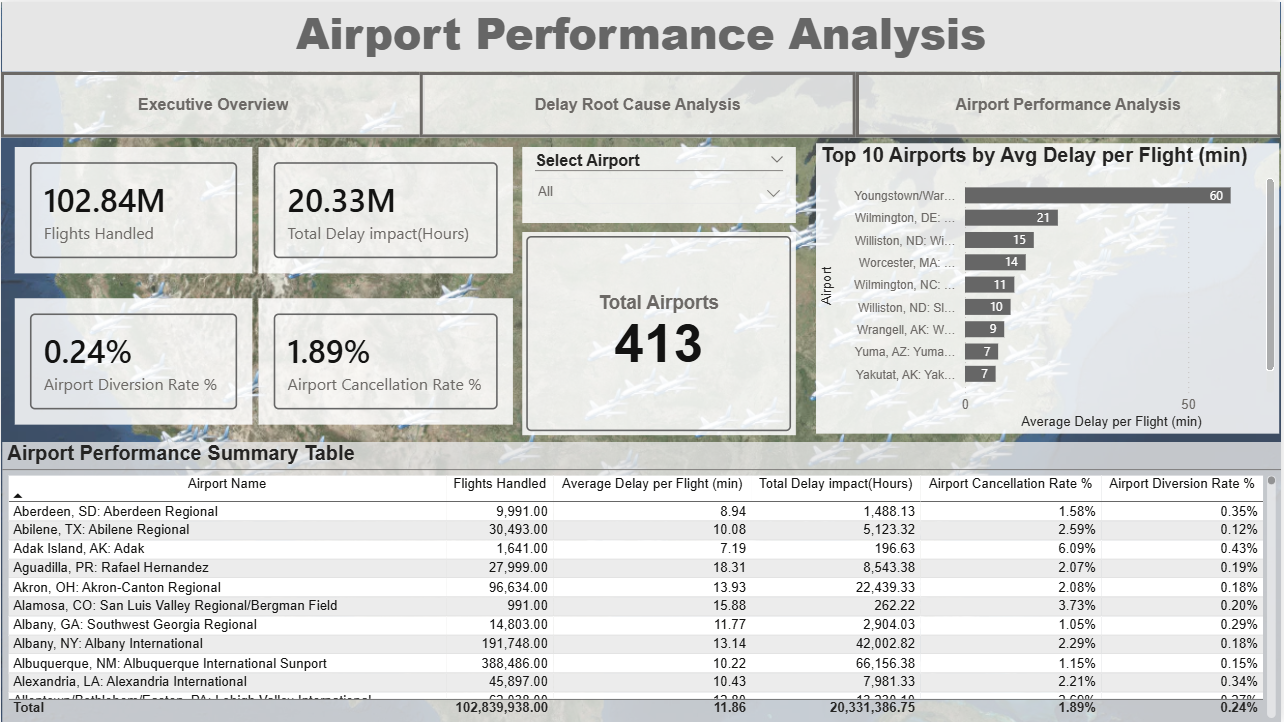

What the dashboard file says about the page in this screenshot:
{"tool":"powerbi","page":{"name":"Airport Performance","canvas":[1280,720],"ordinal":2},"visuals":[{"type":"textbox","title":"Airport Performance Analysis","box":[1.2,0,1277.6,70],"z":0},{"type":"actionButton","box":[0,70.5,424.4,65.4],"z":1000},{"type":"actionButton","box":[419.2,70.5,435.9,65.4],"z":2000},{"type":"actionButton","box":[855.1,70.5,424.4,65.4],"z":3000},{"type":"cardVisual","fields":{"Data":["vw_Airport_Performance.Airport Cancellation Rate %"]},"box":[257,296.8,254.6,126.7],"z":4000},{"type":"cardVisual","fields":{"Data":["vw_Airport_Performance.Total Delay impact(Hours)"]},"box":[257,144.8,254.6,126.7],"z":5000},{"type":"cardVisual","fields":{"Data":["vw_Airport_Performance.Flights Handled"]},"box":[13.3,144.8,237.7,126.7],"z":6000},{"type":"cardVisual","fields":{"Data":["vw_Airport_Performance.Airport Diversion Rate %"]},"box":[13.3,296.8,237.7,126.7],"z":7000},{"type":"barChart","title":"Top 10 Airports by Avg Delay per Flight (min)","fields":{"Category":["vw_Airport_Performance.airport_name"],"Y":["vw_Airport_Performance.Average Delay per Flight (min)"]},"box":[815.6,141.2,463.3,290.8],"z":8000},{"type":"cardVisual","fields":{"Data":["vw_Airport_Performance.Total Airports"]},"box":[521,230,273.9,203],"z":9000},{"type":"tableEx","title":"Airport Performance Summary Table","fields":{"Values":["vw_Airport_Performance.airport_name","vw_Airport_Performance.Flights Handled","vw_Airport_Performance.Average Delay per Flight (min)","vw_Airport_Performance.Total Delay impact(Hours)","vw_Airport_Performance.Airport Cancellation Rate %","vw_Airport_Performance.Airport Diversion Rate %"]},"box":[1.2,440.4,1278.8,279.9],"z":10000},{"type":"slicer","fields":{"Values":["vw_Airport_Performance.airport_name"]},"box":[521.2,144.8,273.9,76],"z":11001}]}

Visuals, with their boxes in screenshot pixels (x1, y1, x2, y2), scaled from the page's 1280x720 canvas onto the 1284x722 screenshot:
"Airport Performance Analysis" textbox: [x1=1, y1=0, x2=1283, y2=70]
actionButton: [x1=0, y1=71, x2=426, y2=136]
actionButton: [x1=421, y1=71, x2=858, y2=136]
actionButton: [x1=858, y1=71, x2=1283, y2=136]
cardVisual - vw_Airport_Performance.Airport Cancellation Rate %: [x1=258, y1=298, x2=513, y2=425]
cardVisual - vw_Airport_Performance.Total Delay impact(Hours): [x1=258, y1=145, x2=513, y2=272]
cardVisual - vw_Airport_Performance.Flights Handled: [x1=13, y1=145, x2=252, y2=272]
cardVisual - vw_Airport_Performance.Airport Diversion Rate %: [x1=13, y1=298, x2=252, y2=425]
"Top 10 Airports by Avg Delay per Flight (min)" barChart: [x1=818, y1=142, x2=1283, y2=433]
cardVisual - vw_Airport_Performance.Total Airports: [x1=523, y1=231, x2=797, y2=434]
"Airport Performance Summary Table" tableEx: [x1=1, y1=442, x2=1283, y2=721]
slicer - vw_Airport_Performance.airport_name: [x1=523, y1=145, x2=798, y2=221]
